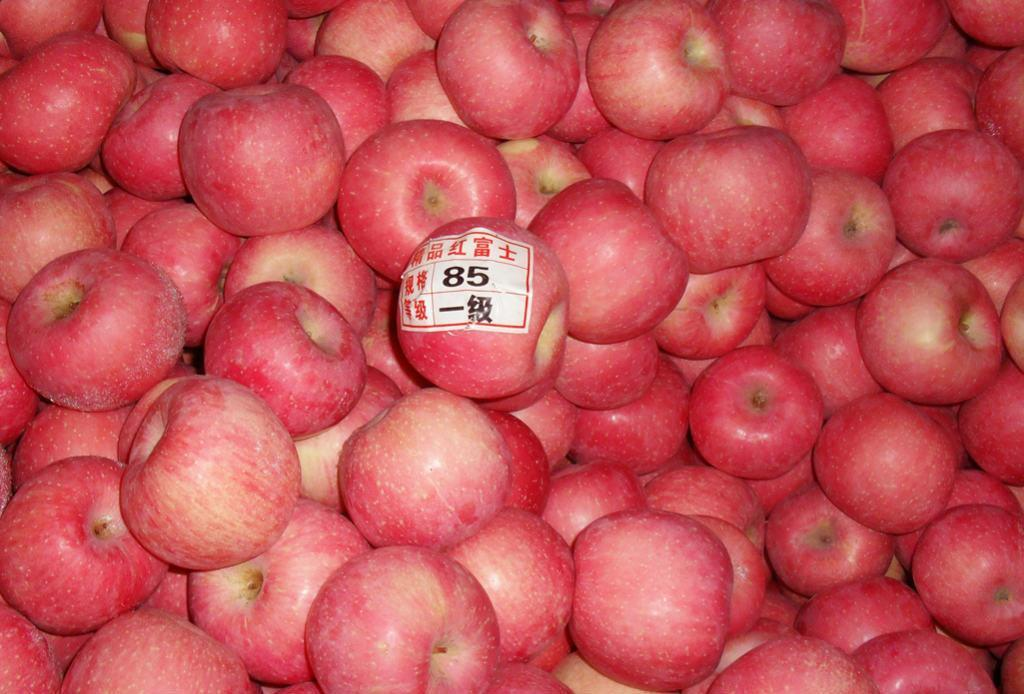apple: (185, 490, 372, 685), (122, 374, 304, 574), (395, 216, 566, 400), (7, 246, 190, 415), (566, 512, 735, 690), (301, 542, 498, 694), (3, 453, 167, 633), (300, 79, 481, 236), (174, 81, 348, 239), (335, 387, 508, 545), (525, 176, 688, 341), (200, 278, 365, 436), (646, 121, 810, 268), (854, 254, 1006, 401), (815, 386, 956, 530), (685, 342, 820, 476), (885, 127, 1018, 257), (909, 503, 1022, 648), (100, 71, 217, 201), (384, 49, 460, 128)
